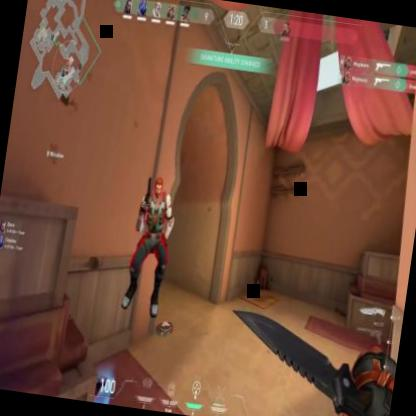enemy: (121, 175, 177, 318)
enemy_head: (150, 174, 165, 202)
